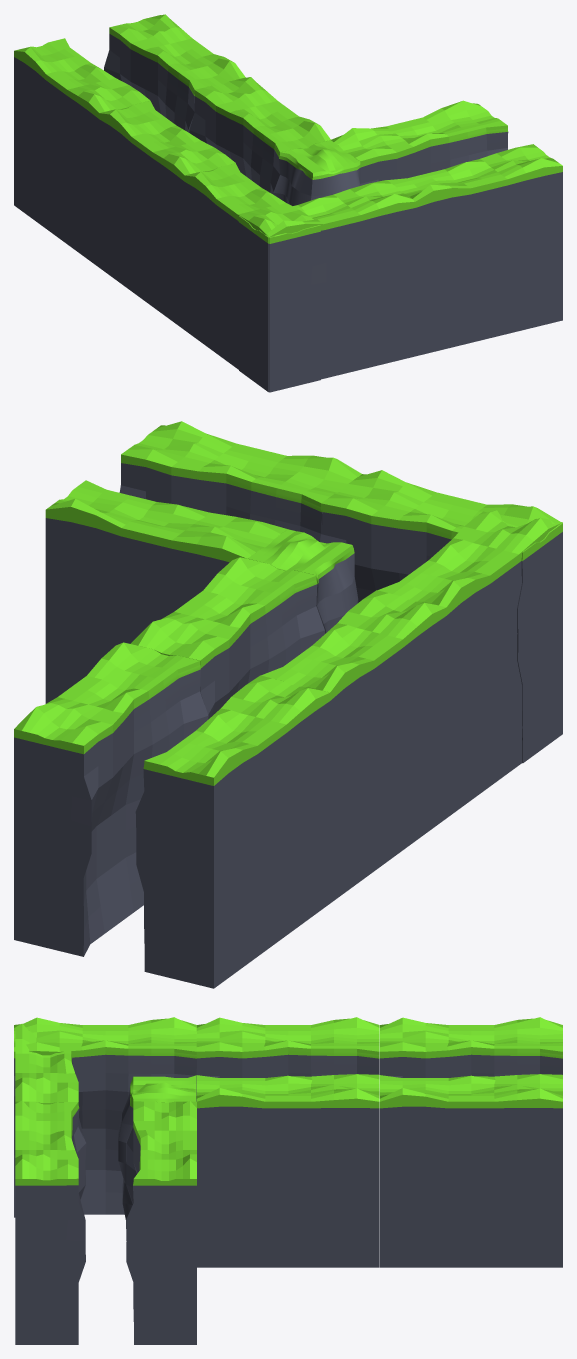
Rendered from BlockSet2.dae.
3 views of the same model, one above another, from view 1: azimuth 30°, elevation 25°; view 2: azimuth 150°, elevation 25°; view 3: azimuth 270°, elevation 25° (orthographic). The views are drawn at different scales.
Parts seen in each view (by area): view 1: BlockSet2Fin; view 2: BlockSet2Fin; view 3: BlockSet2Fin.
Part boxes in pixels (<box>): BlockSet2Fin: <box>14,14,562,392</box>; BlockSet2Fin: <box>14,421,562,988</box>; BlockSet2Fin: <box>14,1017,562,1344</box>.
Size of the model in its own units: 310 by 166 by 466.
